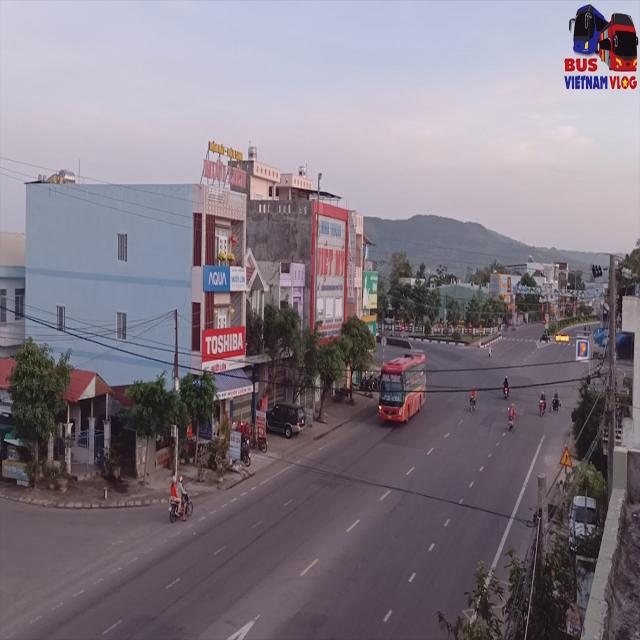bus: (378, 351, 428, 426)
motorbike: (168, 479, 193, 526), (506, 404, 516, 434)
